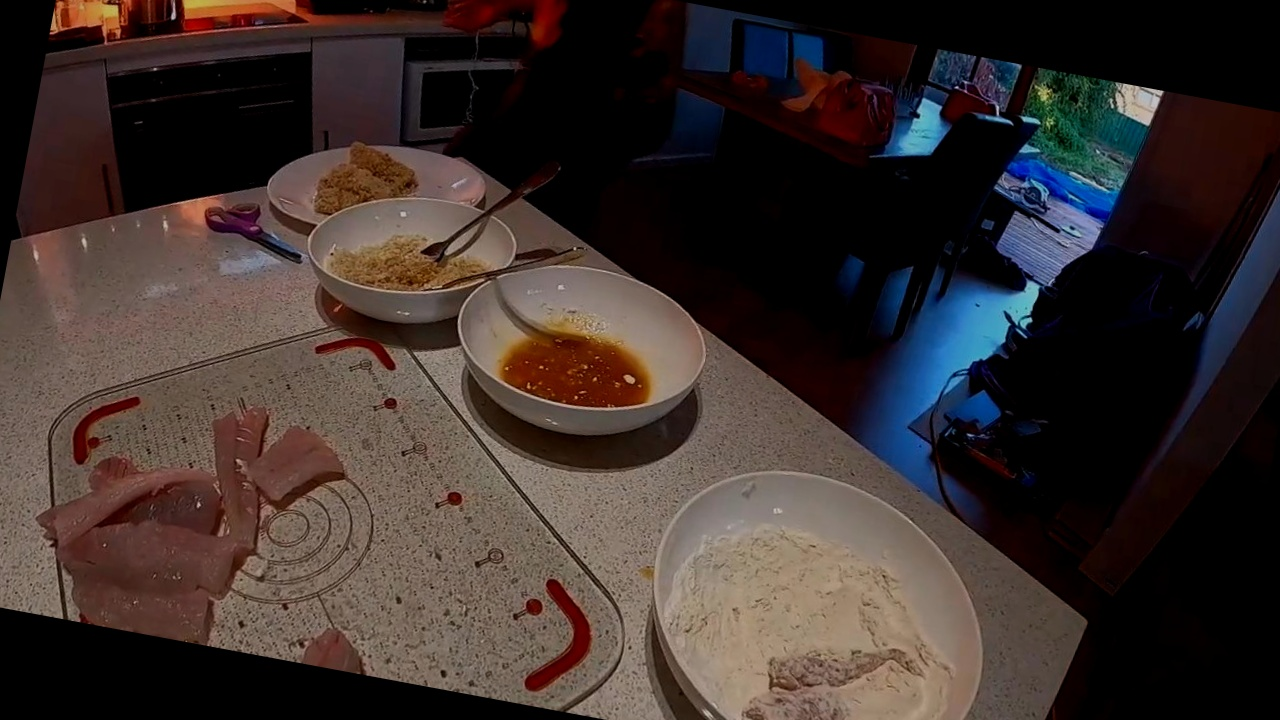fire: (88, 0, 266, 63)
